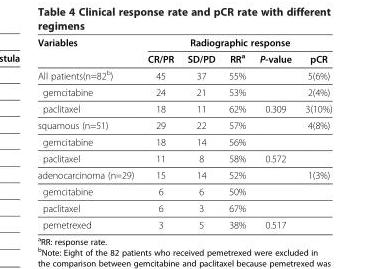table: (36, 36, 331, 230)
table column: (36, 36, 140, 230), (252, 36, 297, 230), (179, 36, 221, 230), (140, 36, 179, 230), (297, 36, 331, 230), (221, 36, 252, 230)
table column header: (36, 36, 331, 66)
table row: (36, 49, 331, 66), (36, 66, 331, 83), (36, 83, 331, 100), (36, 116, 331, 133), (36, 149, 331, 166), (36, 182, 331, 199), (36, 199, 331, 216), (36, 100, 331, 116), (36, 133, 331, 149), (36, 166, 331, 182), (36, 216, 331, 230), (36, 36, 331, 49)
table spanning cell: (36, 36, 140, 66), (140, 36, 331, 49)
